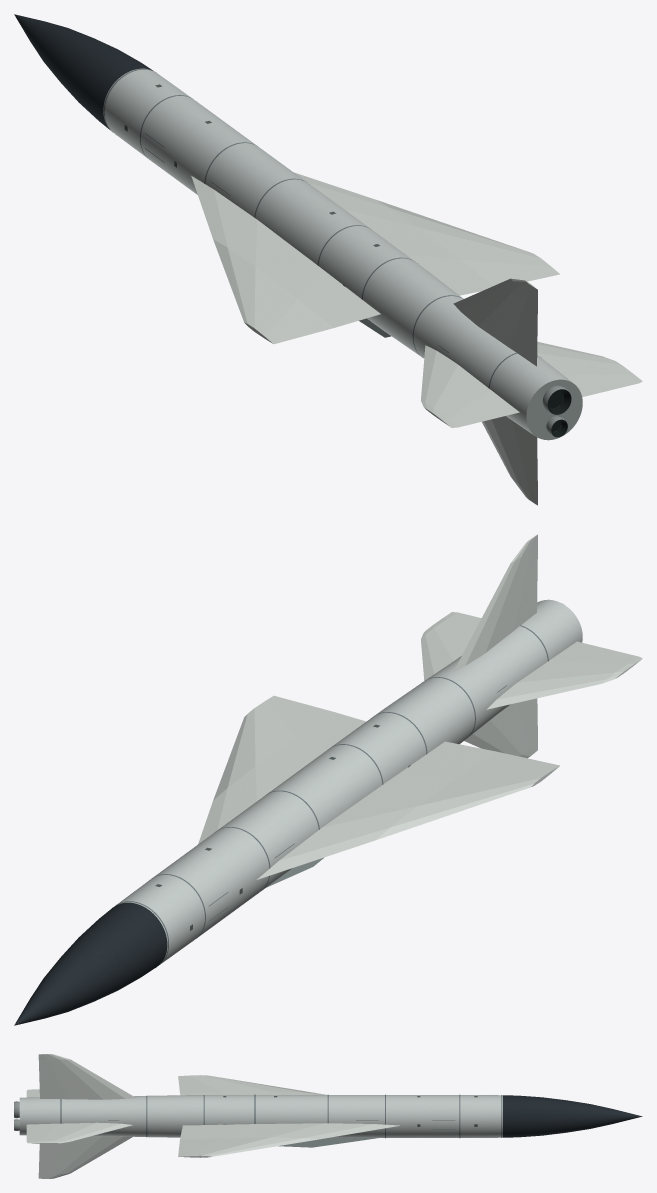
3 views of the same model, one above another, from view 1: azimuth 30°, elevation 25°; view 2: azimuth 150°, elevation 25°; view 3: azimuth 270°, elevation 25° (orthographic). The views are drawn at different scales.
Parts seen in each view (by area): view 1: fuselage, swept_main_wing, tailplane, vertical_tail, ogive_radome, tail_plate, panel_seam; view 2: fuselage, swept_main_wing, ogive_radome, vertical_tail, tailplane, panel_seam; view 3: fuselage, swept_main_wing, vertical_tail, ogive_radome, tailplane, panel_seam, ventral_fairing.
Part boxes in pixels (x1,y1,x2,y2): fuselage: (103,68,572,435); swept_main_wing: (191,172,559,344); tailplane: (421,341,642,427); vertical_tail: (453,278,537,505); ogive_radome: (14,14,152,129); tail_plate: (526,379,582,440); panel_seam: (103,69,540,388); fuselage: (115,599,582,964); swept_main_wing: (198,695,559,879); ogive_radome: (14,902,167,1025); vertical_tail: (453,534,537,758); tailplane: (421,612,642,709); panel_seam: (112,625,548,967); fuselage: (19,1095,502,1137); swept_main_wing: (178,1075,399,1156); vertical_tail: (38,1054,135,1178); ogive_radome: (503,1095,642,1137); tailplane: (26,1089,132,1143); panel_seam: (60,1094,502,1138); ventral_fairing: (278,1138,377,1147).
Bounding box in the file's own units: 3 × 2.16 × 9.89.
1 material, 1 textured.
